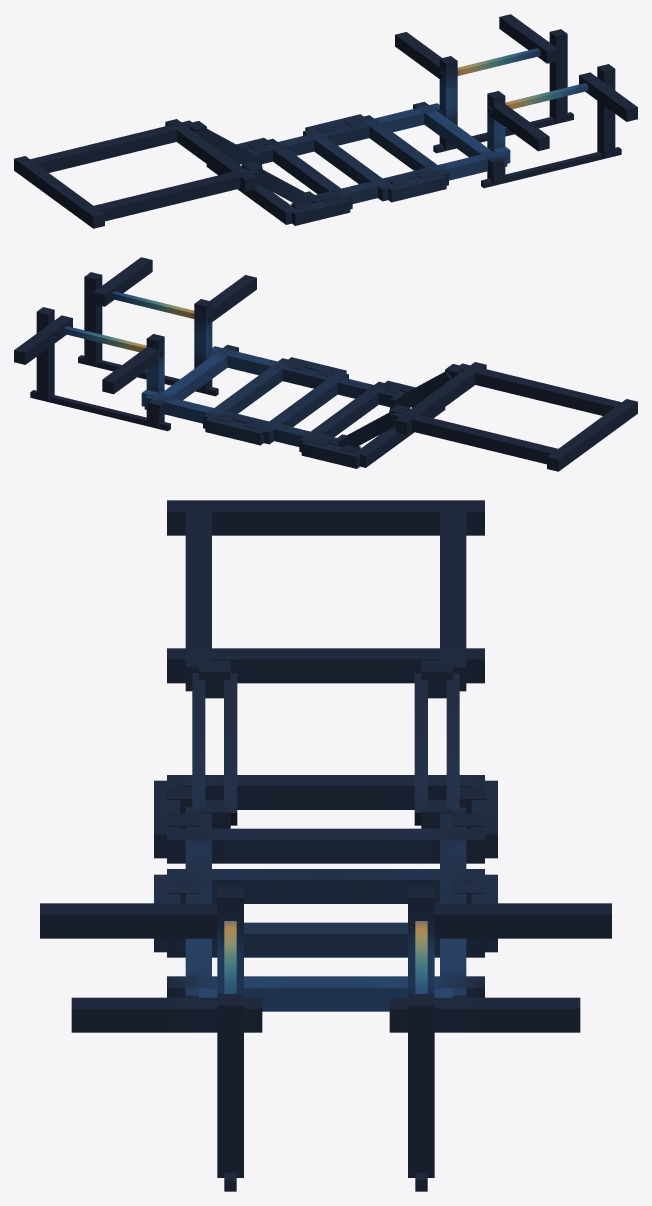
Rendered from letrakeret.glb.
3 renders of one model, top to bottom at view 1: azimuth 30°, elevation 25°; view 2: azimuth 150°, elevation 25°; view 3: azimuth 270°, elevation 25°, orthographic. The views are drawn at different scales.
Visible parts, largest first — view 1: fem; view 2: fem; view 3: fem.
Boxes of the visible parts, bbox=[...] form: fem: bbox=[14, 14, 637, 228]; fem: bbox=[14, 257, 637, 471]; fem: bbox=[40, 500, 611, 1191].
Bounding box in the file's own units: 315 × 49.55 × 144.
